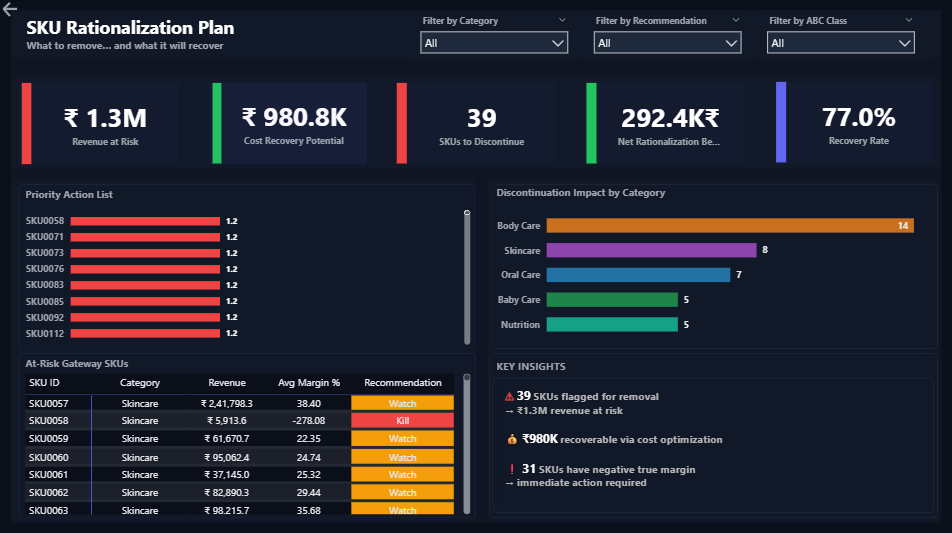

Layout of this report page (visuals, bound fields, positions):
{"tool":"powerbi","page":{"name":"Kill List & Actions","canvas":[1280,720],"ordinal":4},"visuals":[{"type":"shape","box":[14.9,14.9,1250.6,689.3],"z":0},{"type":"shape","box":[15,240.5,628,463.1],"z":1000},{"type":"shape","box":[14.9,14.9,1250.6,68],"z":2000},{"type":"shape","box":[14.9,101.2,1250.6,130],"z":3000},{"type":"shape","box":[652.5,240.5,613.4,463.1],"z":4000},{"type":"textbox","box":[30.1,16.5,365.3,63.1],"z":5000},{"type":"shape","box":[25.6,111.3,215,109.7],"z":6000},{"type":"shape","box":[280.3,112.8,213.5,109.7],"z":7000},{"type":"shape","box":[533.5,112,214,109.8],"z":8000},{"type":"shape","box":[787.2,111.3,213.5,111.2],"z":9000},{"type":"shape","box":[25.6,249.6,613,221],"z":10000},{"type":"shape","box":[25.6,476.6,614.9,221],"z":11000},{"type":"shape","box":[657,476.6,602.9,221],"z":12000},{"type":"barChart","title":"Priority Action List","fields":{"Category":["sku_rationalization_master.sku_id"],"Y":["Avg(sku_rationalization_master.rationalization_score)"]},"box":[28.6,254.1,608,216.5],"z":13000},{"type":"shape","box":[661.5,509.7,592.3,180.4],"z":14000},{"type":"textbox","box":[673.5,517.2,569.8,165.4],"z":15000},{"type":"textbox","box":[661.5,479.6,575.8,30.1],"z":16000},{"type":"pivotTable","title":"At-Risk Gateway SKUs","fields":{"Rows":["sku_rationalization_master.sku_id"],"Values":["Min(sku_rationalization_master.category)","_Measures _1.Total Portfolio Revenue","Avg(sku_rationalization_master.true_margin_pct)","Min(sku_rationalization_master.recommendation)"]},"box":[28.6,481.1,607.4,216.5],"z":17000},{"type":"shape","box":[28.9,112.4,12.8,109.2],"z":18000},{"type":"shape","box":[285.7,112.8,12,108.2],"z":19000},{"type":"shape","box":[533.7,112.8,13.5,108.2],"z":20000},{"type":"shape","box":[787.8,112.8,13.5,108.2],"z":21000},{"type":"cardVisual","fields":{"Data":["_Measures _1.Net Rationalization Benefit"]},"box":[801.3,117.3,200,99.2],"z":22000},{"type":"cardVisual","fields":{"Data":["_Measures _1.SKUs to Kill"]},"box":[547.2,117.3,200,99.2],"z":23000},{"type":"cardVisual","fields":{"Data":["_Measures _1.Ops Cost Kill SKUs"]},"box":[291.7,115.8,207.5,99.2],"z":24000},{"type":"cardVisual","fields":{"Data":["_Measures _1.Kill Revenue at Risk"]},"box":[42.1,117.3,198.5,99.2],"z":25000},{"type":"shape","box":[661.5,249.6,598.4,221],"z":29000},{"type":"clusteredBarChart","title":"Discontinuation Impact by Category","fields":{"Category":["sku_rationalization_master.category"],"Y":["_Measures_5.Kill Count Category"]},"box":[661.5,251.1,592.3,216.5],"z":30000},{"type":"shape","box":[285.7,111.3,207.5,109.7],"z":31000},{"type":"shape","box":[1043.4,111.3,210.5,109.7],"z":32000},{"type":"shape","box":[1043.4,111.3,13.5,108.2],"z":33000},{"type":"cardVisual","fields":{"Data":["_Measures_5.Revenue Recovery Rate"]},"box":[1053.9,115.8,200,99.2],"z":34000},{"type":"actionButton","box":[0,0,28.6,28.6],"z":34002},{"type":"slicer","fields":{"Values":["sku_rationalization_master.category"]},"box":[554.8,16.5,218,67.7],"z":34003},{"type":"slicer","fields":{"Values":["sku_rationalization_master.abc_class"]},"box":[1020.8,16.5,218,67.7],"z":34004},{"type":"slicer","fields":{"Values":["sku_rationalization_master.recommendation"]},"box":[787.7,16.5,218.2,67.4],"z":34005}]}

Visuals, with their boxes in screenshot pixels (x1, y1, x2, y2), scaled from the page's 1280x720 canvas onto the 952x533 screenshot:
shape: <bbox>11, 11, 941, 521</bbox>
shape: <bbox>11, 178, 478, 521</bbox>
shape: <bbox>11, 11, 941, 61</bbox>
shape: <bbox>11, 75, 941, 171</bbox>
shape: <bbox>485, 178, 942, 521</bbox>
textbox: <bbox>22, 12, 294, 59</bbox>
shape: <bbox>19, 82, 179, 164</bbox>
shape: <bbox>208, 84, 367, 165</bbox>
shape: <bbox>397, 83, 556, 164</bbox>
shape: <bbox>585, 82, 744, 165</bbox>
shape: <bbox>19, 185, 475, 348</bbox>
shape: <bbox>19, 353, 476, 516</bbox>
shape: <bbox>489, 353, 937, 516</bbox>
"Priority Action List" barChart: <bbox>21, 188, 473, 348</bbox>
shape: <bbox>492, 377, 933, 511</bbox>
textbox: <bbox>501, 383, 925, 505</bbox>
textbox: <bbox>492, 355, 920, 377</bbox>
"At-Risk Gateway SKUs" pivotTable: <bbox>21, 356, 473, 516</bbox>
shape: <bbox>21, 83, 31, 164</bbox>
shape: <bbox>212, 84, 221, 164</bbox>
shape: <bbox>397, 84, 407, 164</bbox>
shape: <bbox>586, 84, 596, 164</bbox>
cardVisual - _Measures _1.Net Rationalization Benefit: <bbox>596, 87, 745, 160</bbox>
cardVisual - _Measures _1.SKUs to Kill: <bbox>407, 87, 556, 160</bbox>
cardVisual - _Measures _1.Ops Cost Kill SKUs: <bbox>217, 86, 371, 159</bbox>
cardVisual - _Measures _1.Kill Revenue at Risk: <bbox>31, 87, 179, 160</bbox>
shape: <bbox>492, 185, 937, 348</bbox>
"Discontinuation Impact by Category" clusteredBarChart: <bbox>492, 186, 933, 346</bbox>
shape: <bbox>212, 82, 367, 164</bbox>
shape: <bbox>776, 82, 933, 164</bbox>
shape: <bbox>776, 82, 786, 162</bbox>
cardVisual - _Measures_5.Revenue Recovery Rate: <bbox>784, 86, 933, 159</bbox>
actionButton: <bbox>0, 0, 21, 21</bbox>
slicer - sku_rationalization_master.category: <bbox>413, 12, 575, 62</bbox>
slicer - sku_rationalization_master.abc_class: <bbox>759, 12, 921, 62</bbox>
slicer - sku_rationalization_master.recommendation: <bbox>586, 12, 748, 62</bbox>
